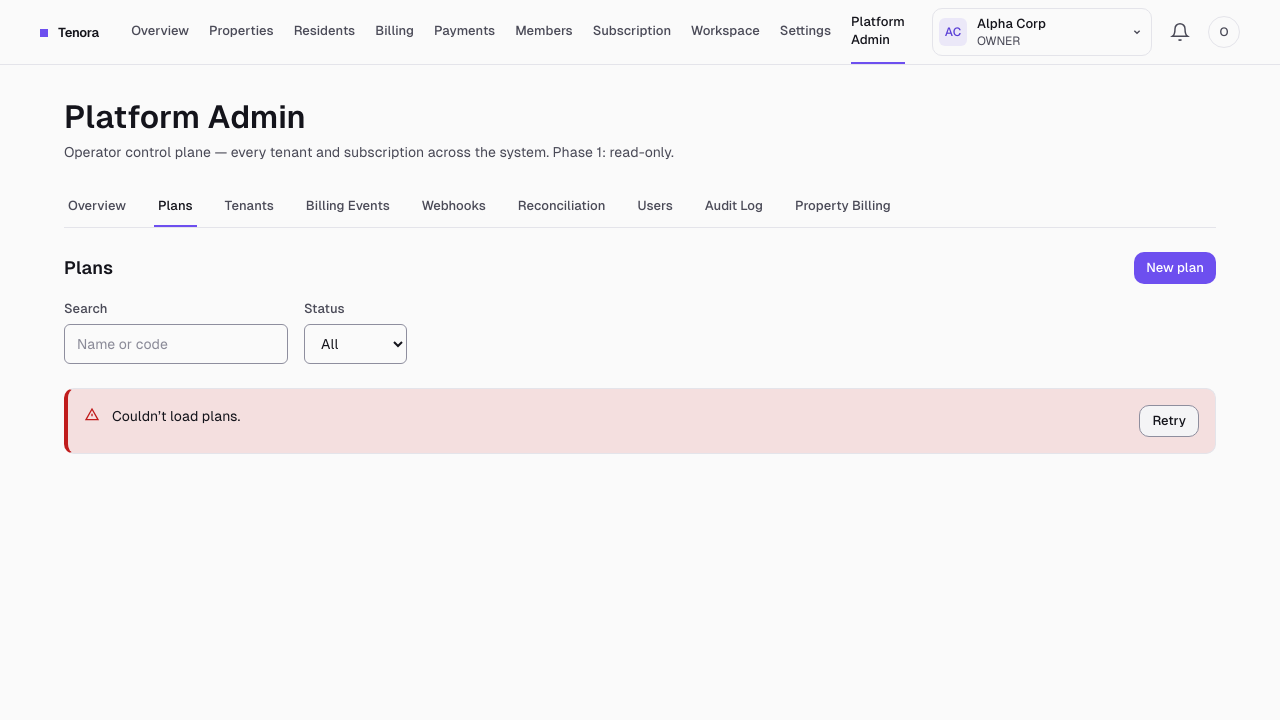
Test case: PlansPage › shows an error state with a working retry
Expected: the text "Couldn’t load plans." is shown, [112,408,240,424]
What coordinates should you click on to do the following:
click the button "Retry"
I would click on:
 (1169, 421)
Its box is [1139,405,1199,437].
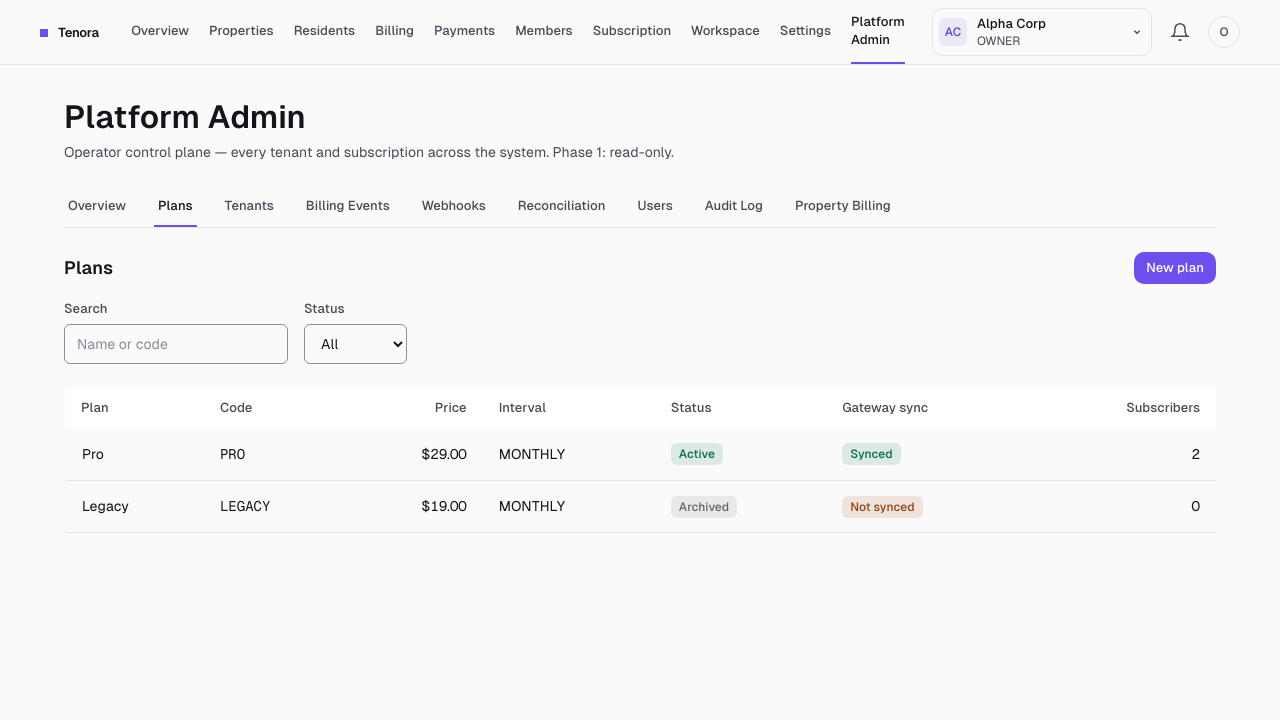
Now the link "Pro" is shown, box [82,446,104,462]
